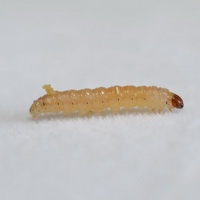insect: (29, 84, 183, 118)
